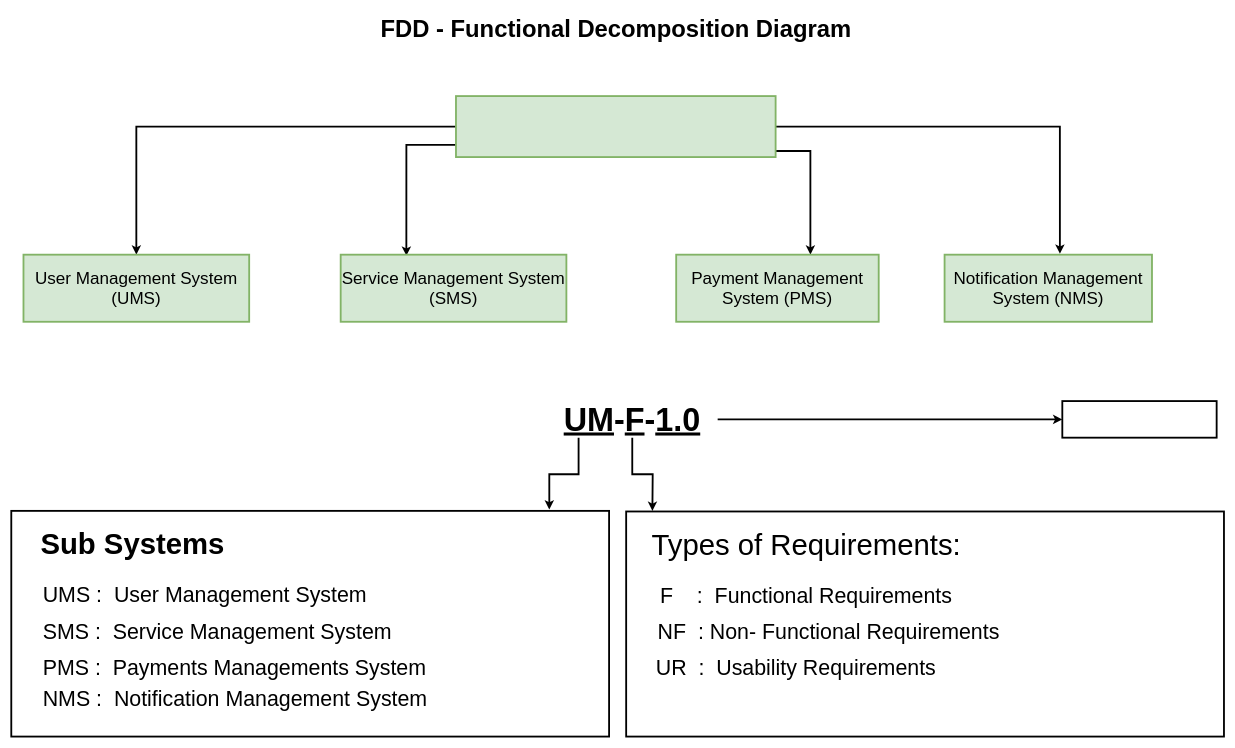
Image size: 1235x748. Some labels were removed from this diagram. The shapes that lost their labels are listed below. From the top down, each one's box as (x1, y1, x2, y2) in pixels, then its label:
(455, 95, 776, 158): Home Service Provider (Sewa Ghar)
(1061, 400, 1217, 438): Numbering
